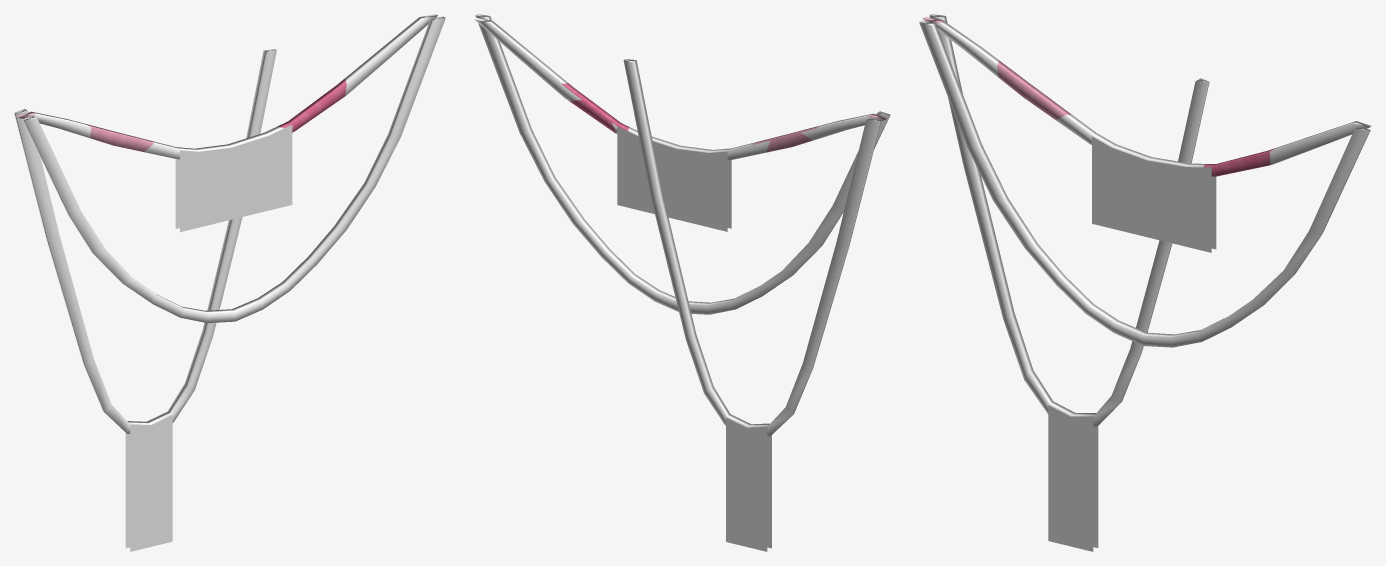
File: Vines_Three.fbx
The picture shows the model from 3 angles, left to right: view 1: azimuth 30°, elevation 25°; view 2: azimuth 150°, elevation 25°; view 3: azimuth 330°, elevation 25°; orthographic projection. The views are drawn at different scales.
Visible parts, largest first — view 1: Vine3, Moss4, Vine5, Moss5, Vine4; view 2: Vine5, Moss4, Vine3, Moss5, Vine4; view 3: Vine3, Moss4, Vine5, Moss5, Vine4.
Part boxes in pixels (bbox=[...]): Vine3: bbox=[22, 16, 445, 322]; Moss4: bbox=[175, 125, 292, 232]; Vine5: bbox=[14, 49, 276, 433]; Moss5: bbox=[125, 415, 172, 551]; Vine4: bbox=[17, 14, 437, 159]; Vine5: bbox=[623, 59, 880, 436]; Moss4: bbox=[617, 126, 731, 231]; Vine3: bbox=[475, 14, 890, 314]; Moss5: bbox=[726, 418, 771, 551]; Vine4: bbox=[474, 18, 887, 160]; Vine3: bbox=[919, 20, 1370, 347]; Moss4: bbox=[1092, 136, 1216, 252]; Vine5: bbox=[929, 14, 1209, 426]; Moss5: bbox=[1048, 405, 1098, 551]; Vine4: bbox=[922, 17, 1371, 176].
Bounding box in the file's own units: 11.09 × 11.65 × 0.6124.
